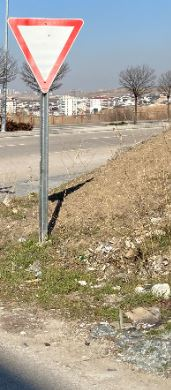Yol Ver: (7, 11, 85, 93)
